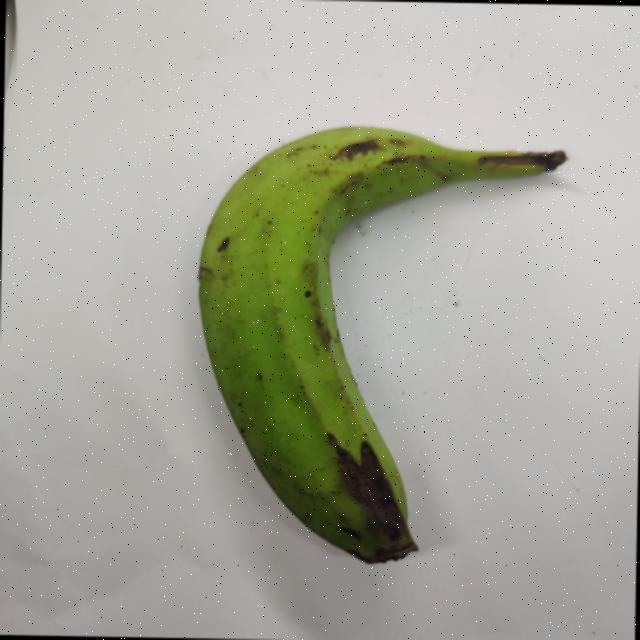Raw: (138, 88, 598, 578)
